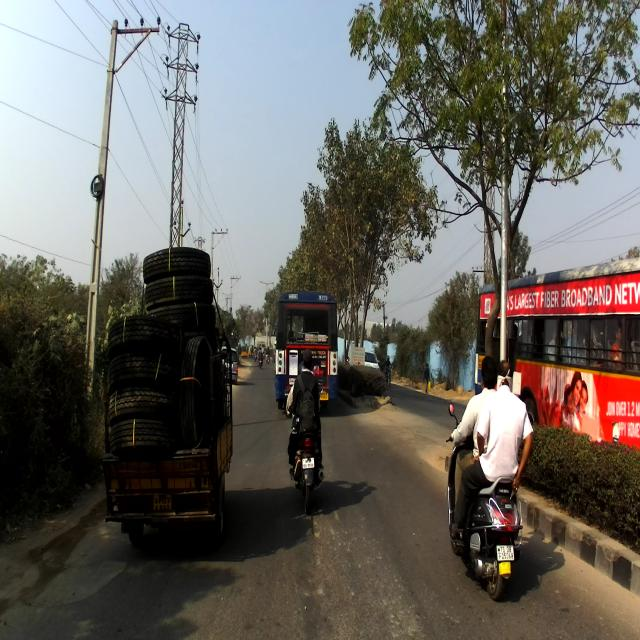motorcycle ahead at: (434, 475, 536, 590), (283, 422, 332, 499)
truck ahead at: (104, 242, 238, 542)
